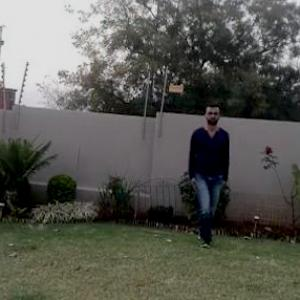follow: (182, 100, 232, 246)
